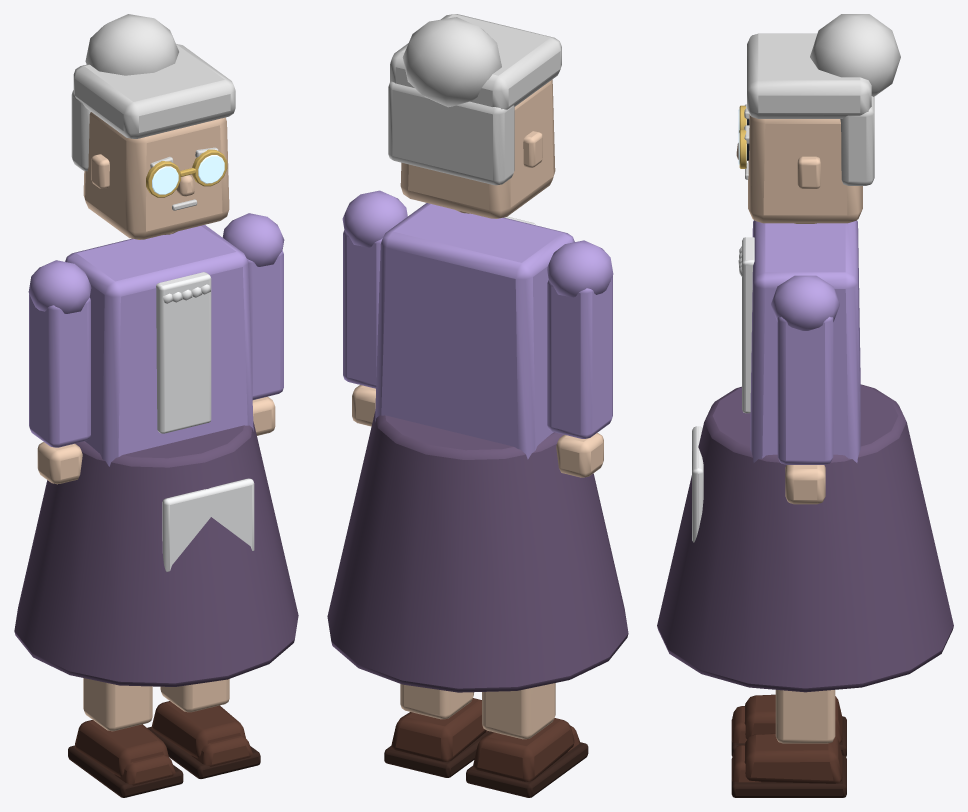
The model's file is grandma.glb.
The picture shows the model from 3 angles, left to right: view 1: azimuth 30°, elevation 25°; view 2: azimuth 150°, elevation 25°; view 3: azimuth 270°, elevation 25°; orthographic projection. The views are drawn at different scales.
Visible parts, largest first — view 1: GrandmaSkirt, CardiganBody, Cranium, SilverHairTop, ArmL_Sleeve, CardiganBlouse, ApronPocket, ArmR_Sleeve, SilverBun, LegL_ShoeUpper, LegR_ShoeUpper, LegL_Leg (+13 smaller); view 2: GrandmaSkirt, CardiganBody, SilverHairBack, ArmL_Sleeve, Cranium, SilverBun, SilverHairTop, ArmR_Sleeve, LegL_ShoeUpper, LegR_ShoeUpper, LegL_Leg, ArmL_Shoulder (+7 smaller); view 3: GrandmaSkirt, CardiganBody, Cranium, SilverHairTop, ArmR_Sleeve, SilverBun, LegR_ShoeUpper, LegR_Leg, ArmR_Shoulder, SilverHairBack, LegR_ShoeSole, CardiganBlouse (+5 smaller).
Boxes of the visible parts, x1,y1,x2,y2 form: GrandmaSkirt: (14,421,298,686); CardiganBody: (65,225,253,466); Cranium: (83,112,229,239); SilverHairTop: (73,44,235,138); ArmL_Sleeve: (29,293,90,447); CardiganBlouse: (156,272,211,433); ApronPocket: (162,478,254,571); ArmR_Sleeve: (246,250,283,399); SilverBun: (85,14,178,75); LegL_ShoeUpper: (75,720,168,777); LegR_ShoeUpper: (152,701,245,758); LegL_Leg: (83,678,152,731); GrandmaSkirt: (327,411,628,692); CardiganBody: (375,203,574,459); SilverHairBack: (388,81,514,185); ArmL_Sleeve: (547,276,612,438); Cranium: (400,79,555,218); SilverBun: (402,17,501,107); SilverHairTop: (390,14,561,109); ArmR_Sleeve: (343,230,382,388); LegL_ShoeUpper: (473,718,574,781); LegR_ShoeUpper: (391,698,486,761); LegL_Leg: (482,683,555,739); ArmL_Shoulder: (547,240,613,297); GrandmaSkirt: (657,384,953,692); CardiganBody: (750,220,860,462); Cranium: (748,114,862,223); SilverHairTop: (747,33,871,118); ArmR_Sleeve: (777,317,833,464); SilverBun: (810,14,900,96); LegR_ShoeUpper: (744,733,842,783); LegR_Leg: (775,690,835,743); ArmR_Shoulder: (771,275,839,330); SilverHairBack: (840,96,874,185); LegR_ShoeSole: (731,755,846,797); CardiganBlouse: (742,237,754,413).
Bounding box in the file's own units: 0.7726 × 2.14 × 0.7726.
